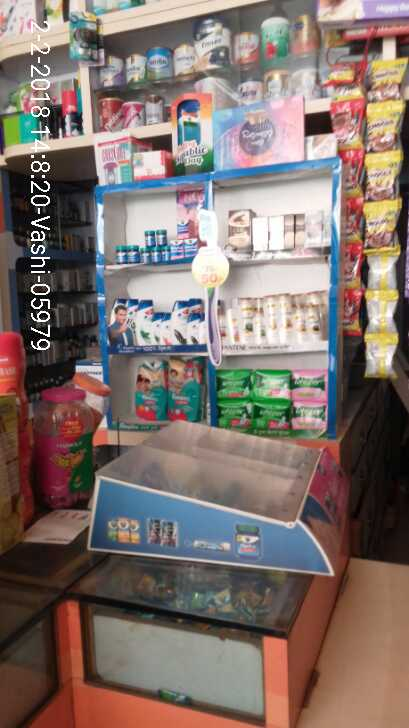beauty: (227, 206, 252, 253), (304, 297, 324, 345), (170, 298, 189, 347), (262, 295, 279, 346), (136, 299, 152, 347), (239, 295, 254, 346), (293, 302, 305, 344), (159, 313, 171, 351), (283, 214, 294, 250), (188, 312, 199, 344), (294, 212, 303, 250)
pharmacy: (166, 354, 205, 420), (132, 357, 166, 420), (214, 370, 255, 402), (291, 369, 330, 401), (291, 400, 330, 430), (256, 399, 291, 432), (253, 368, 290, 399), (218, 399, 257, 426), (126, 245, 140, 264), (115, 245, 128, 264), (144, 229, 155, 247), (139, 248, 151, 264), (155, 229, 166, 246)
